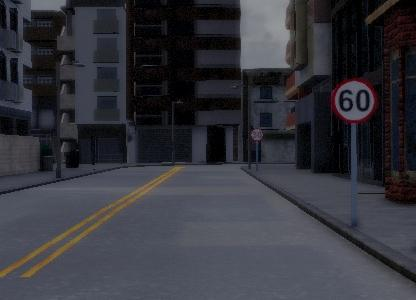Speed_60: (330, 75, 378, 126)
